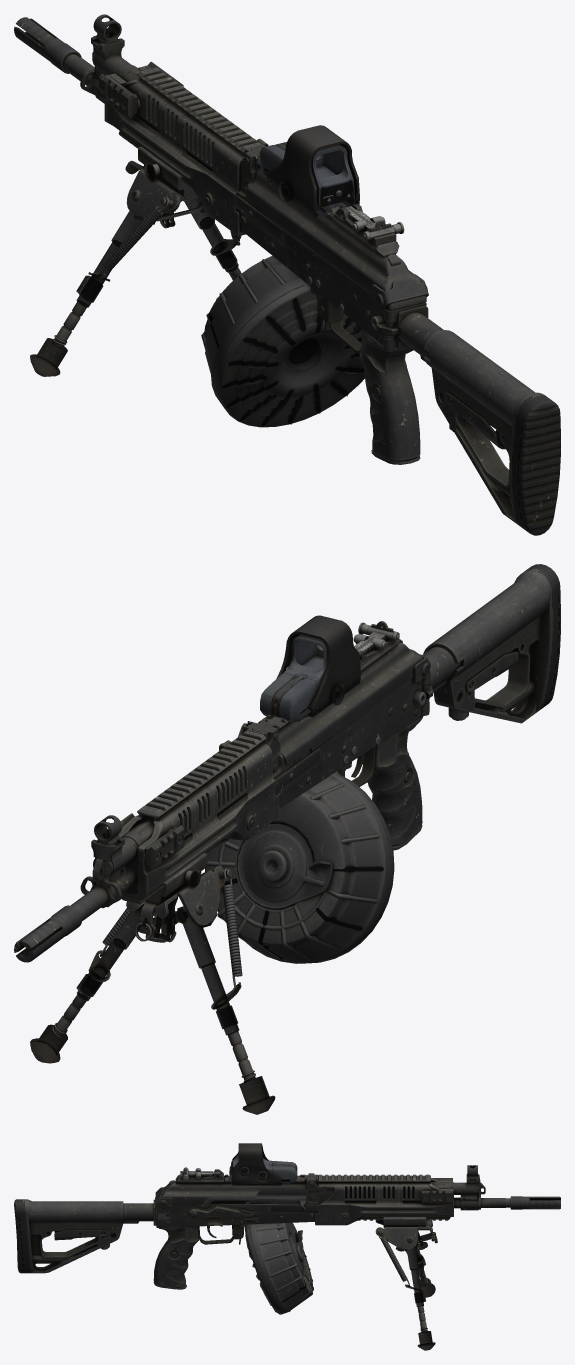
File: w_rpk16.glb
The picture shows the model from 3 angles, top to bottom: view 1: azimuth 30°, elevation 25°; view 2: azimuth 150°, elevation 25°; view 3: azimuth 270°, elevation 25°; orthographic projection. The views are drawn at different scales.
Visible parts, largest first — view 1: body, mag; view 2: body, mag; view 3: body, mag.
Part boxes in pixels (x1,y1,x2,y2): body: (14,14,560,535); mag: (201,256,364,427); body: (14,564,560,1114); mag: (205,771,394,963); body: (14,1143,560,1350); mag: (244,1202,313,1314).
Bounding box in the file's own units: 0.2705 × 0.3639 × 1.02.
4 materials, 4 textured.
